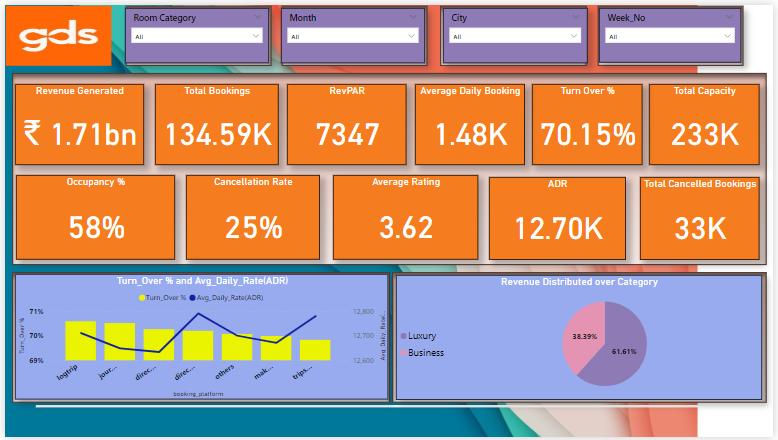

What the dashboard file says about the page in this screenshot:
{"tool":"powerbi","page":{"name":"All_Metrics_Defined","canvas":[1280,720],"ordinal":0},"visuals":[{"type":"card","title":"Total Bookings","fields":{"Values":["Count(fact_bookings.booking_id)"]},"box":[250,78.3,206.7,135],"z":0},{"type":"card","title":"Revenue Generated","fields":{"Values":["Sum(fact_bookings.revenue_realized)"]},"box":[0,79.2,248.3,135.6],"z":1000},{"type":"slicer","fields":{"Values":["dim_rooms.room_class"]},"box":[31.7,0,290.5,91.6],"z":2000},{"type":"slicer","fields":{"Values":["dim_date.Date.Variation.Date Hierarchy.Month"]},"box":[353.9,0,287,91.6],"z":3000},{"type":"slicer","fields":{"Values":["dim_hotels.City"]},"box":[684.9,0,272.9,91.6],"z":4000},{"type":"slicer","fields":{"Values":["dim_date.week no"]},"box":[987.7,0,292.3,91.6],"z":5000},{"type":"card","title":"Average Rating","fields":{"Values":["Avg(fact_bookings.ratings_given)"]},"box":[556.7,213.3,215,146.7],"z":6000},{"type":"card","title":"Total Capacity","fields":{"Values":["Sum(fact_aggregated_bookings.capacity)"]},"box":[1072.2,79.2,184.9,135.6],"z":7000},{"type":"card","title":"Occupancy %","fields":{"Values":["dim_date.Occupancy %"]},"box":[50,215,240,135],"z":8000},{"type":"card","title":"Total Cancelled Bookings","fields":{"Values":["dim_date.Cancellation_booking"]},"box":[1018.3,213.3,201.7,146.7],"z":9000},{"type":"card","title":"Cancellation Rate","fields":{"Values":["dim_date.Cancellation_booking divided by Count of booking_id"]},"box":[321.7,215,208.3,145],"z":10000},{"type":"card","title":"Turn Over %","fields":{"Values":["dim_date.Turn_Over %"]},"box":[836.3,79.2,213,135.6],"z":11000},{"type":"card","title":"ADR","fields":{"Values":["dim_date.Avg_Daily_Rate(ADR)"]},"box":[790,213.3,198.3,146.7],"z":12000},{"type":"card","title":"RevPAR","fields":{"Values":["dim_date.revenue_realized per Available room (RevPar)"]},"box":[456.7,80,198.3,135],"z":13000},{"type":"card","title":"Average Daily Booking","fields":{"Values":["dim_date.Daily_Booking"]},"box":[653.2,79.2,183.1,135.6],"z":14000},{"type":"lineStackedColumnComboChart","title":"Turn_Over % and Avg_Daily_Rate(ADR)","fields":{"Y":["dim_date.Turn_Over %"],"Category":["fact_bookings.booking_platform"],"Y2":["dim_date.Avg_Daily_Rate(ADR)"]},"box":[66.9,359.2,655,360.9],"z":15000},{"type":"pieChart","title":"Revenue Distributed over Category","fields":{"Y":["Sum(fact_bookings.revenue_realized)"],"Category":["dim_hotels.Category"]},"box":[788.3,350,460,341.7],"z":16000}]}

Visuals, with their boxes in screenshot pixels (x1, y1, x2, y2), scaled from the page's 1280x720 canvas onto the 778x440 screenshot:
"Total Bookings" card: crop(152, 48, 278, 130)
"Revenue Generated" card: crop(0, 48, 151, 131)
slicer - dim_rooms.room_class: crop(19, 0, 196, 56)
slicer - dim_date.Date.Variation.Date Hierarchy.Month: crop(215, 0, 390, 56)
slicer - dim_hotels.City: crop(416, 0, 582, 56)
slicer - dim_date.week no: crop(600, 0, 777, 56)
"Average Rating" card: crop(338, 130, 469, 220)
"Total Capacity" card: crop(652, 48, 764, 131)
"Occupancy %" card: crop(30, 131, 176, 214)
"Total Cancelled Bookings" card: crop(619, 130, 742, 220)
"Cancellation Rate" card: crop(196, 131, 322, 220)
"Turn Over %" card: crop(508, 48, 638, 131)
"ADR" card: crop(480, 130, 601, 220)
"RevPAR" card: crop(278, 49, 398, 131)
"Average Daily Booking" card: crop(397, 48, 508, 131)
"Turn_Over % and Avg_Daily_Rate(ADR)" lineStackedColumnComboChart: crop(41, 220, 439, 439)
"Revenue Distributed over Category" pieChart: crop(479, 214, 759, 423)
